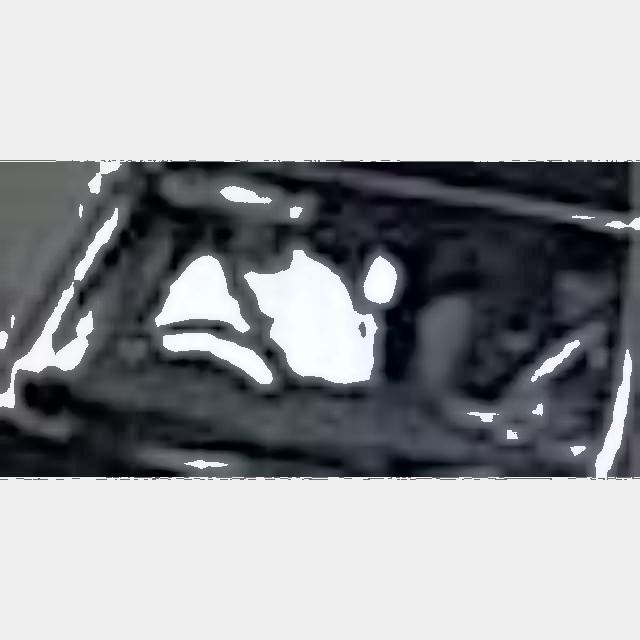pakai: (154, 213, 410, 409)
